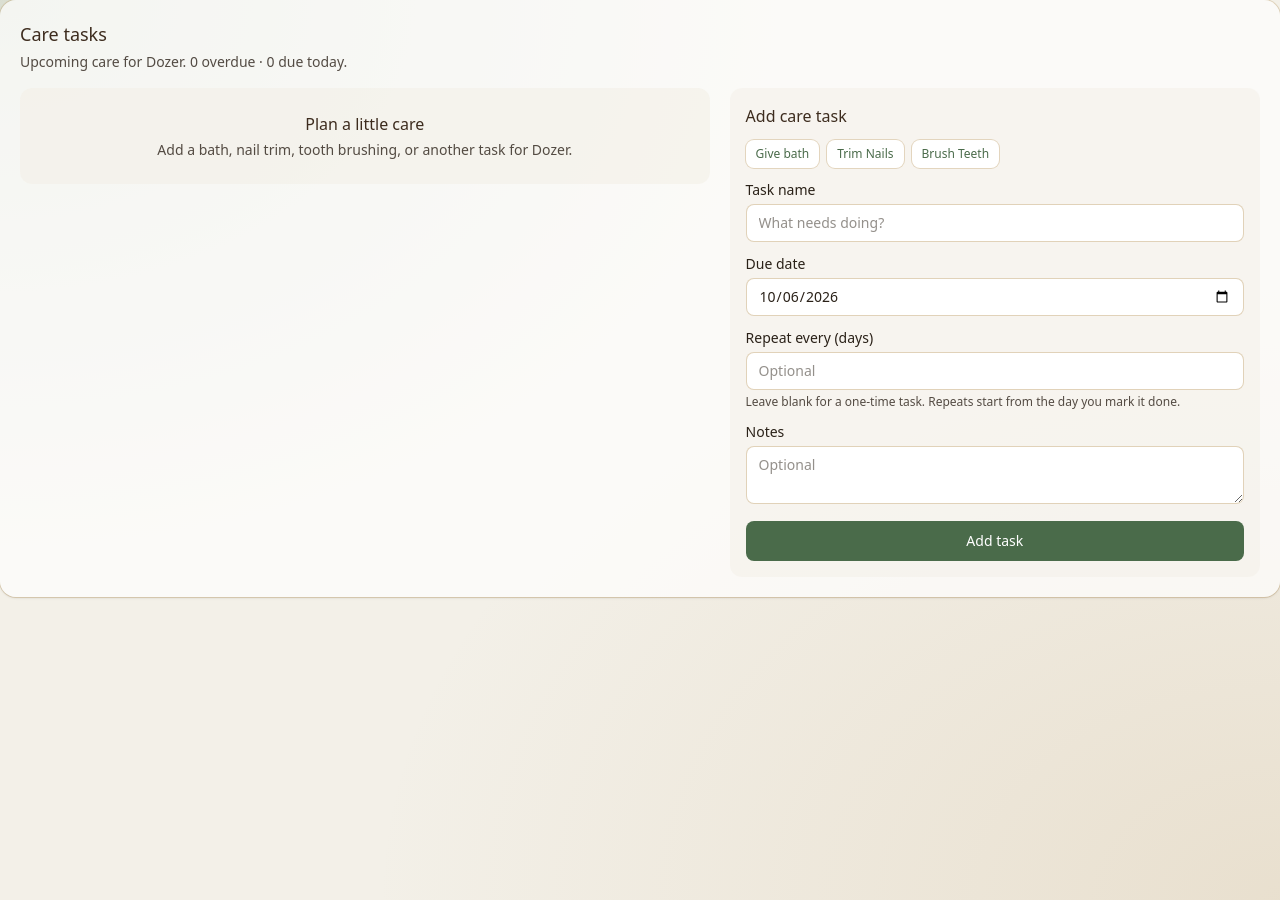
Scenario: CareTasksPanel › creates a custom task with notes and repeat days, then resets the form
In the field labelled "Task name": (995,223) 746,204 -> 1244,242, type "  Clean ears  "
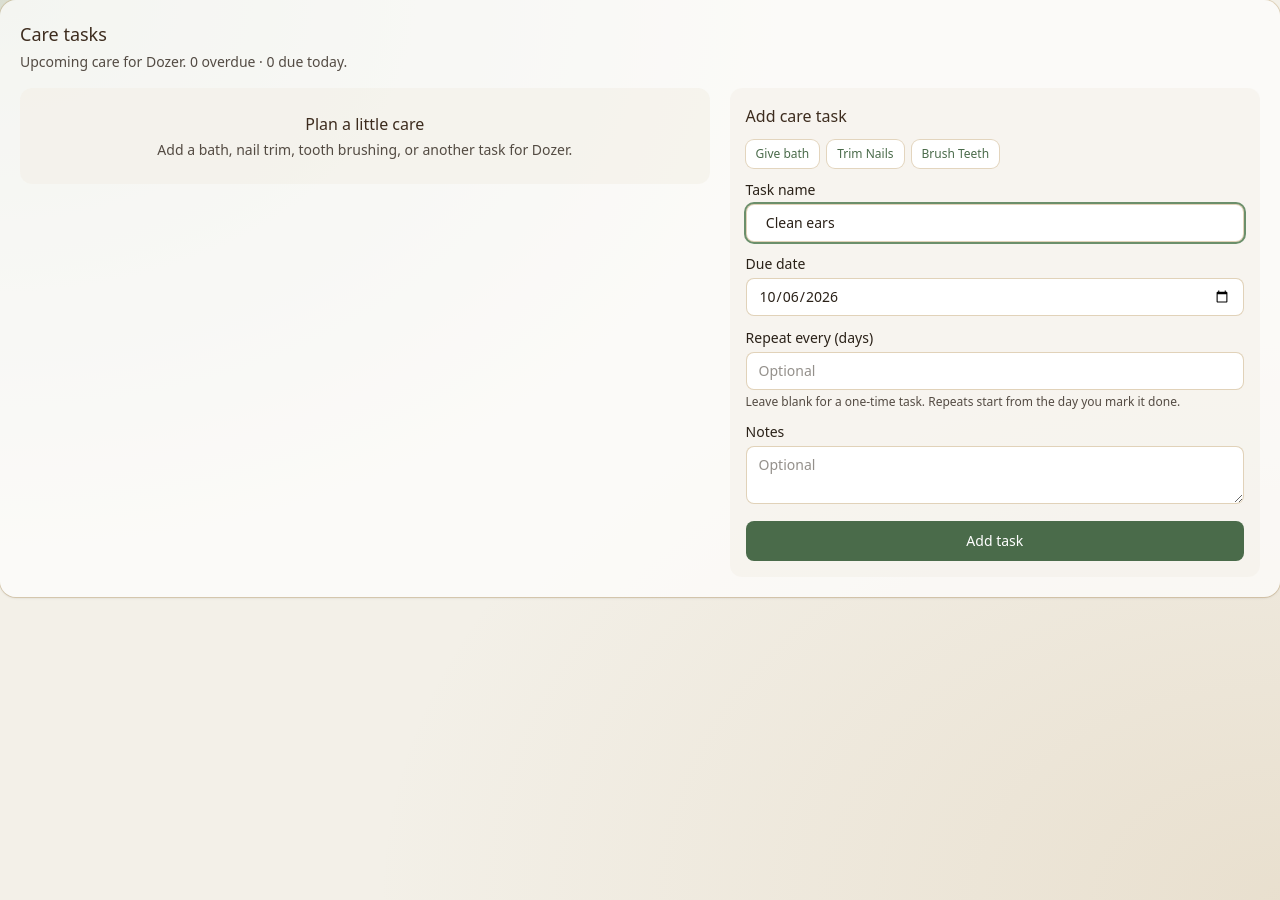
In the date field labelled "Due date": (995,297) 746,278 -> 1244,316, type "2026-10-01"
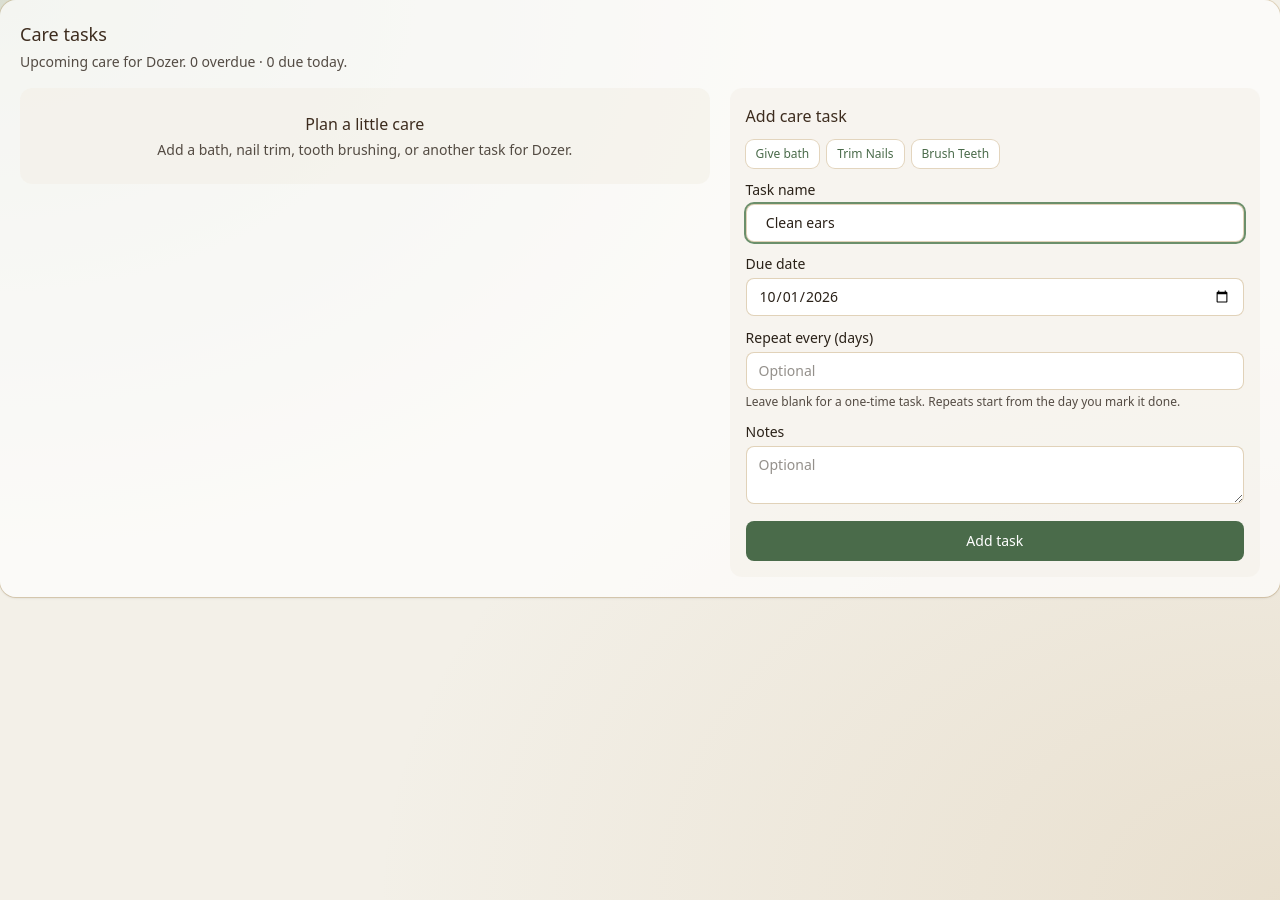
In the number field labelled "Repeat every (days)": (995,371) 746,352 -> 1244,390, type "7"
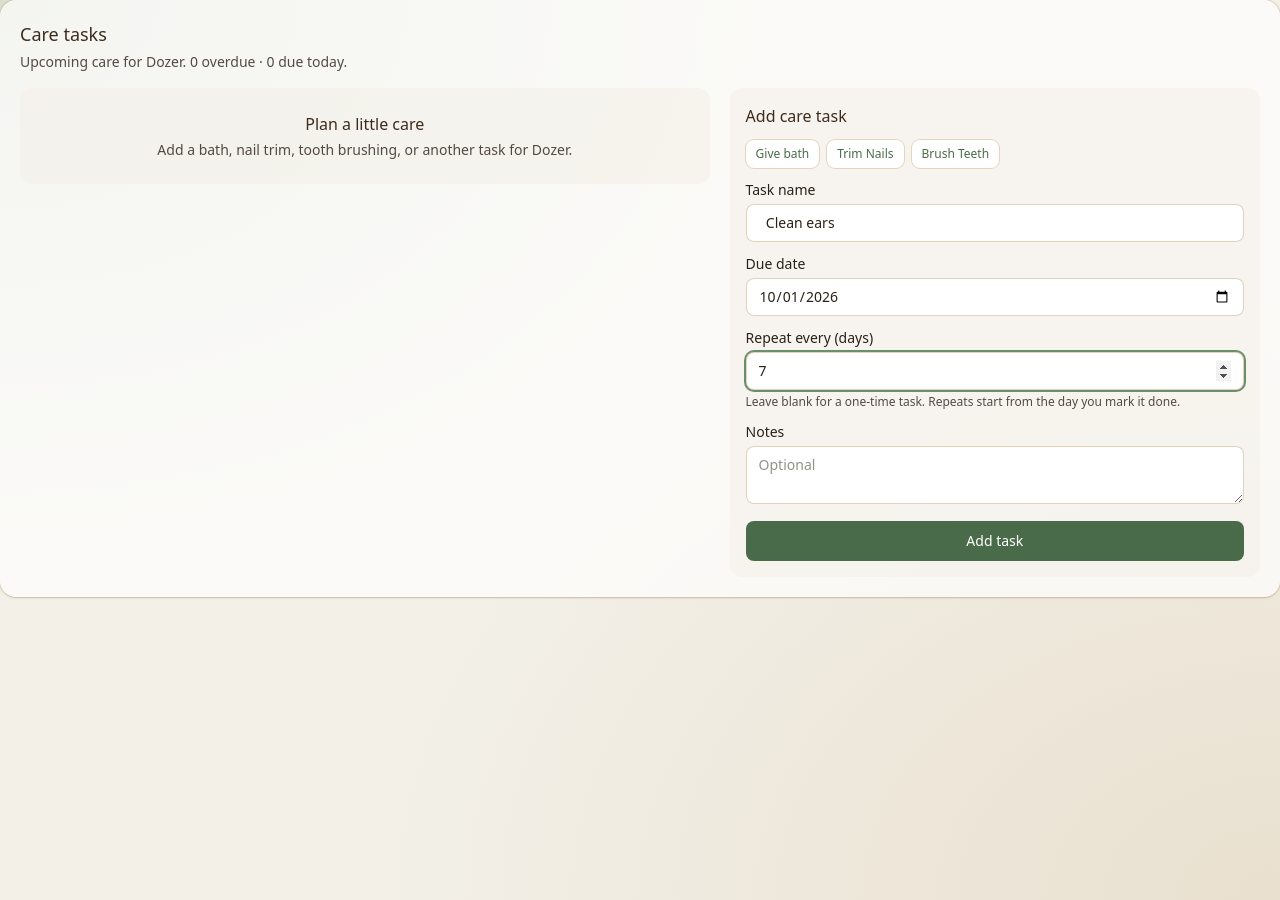
In the text box labelled "Notes": (995,475) 746,446 -> 1244,504, type "  Cotton pads  "
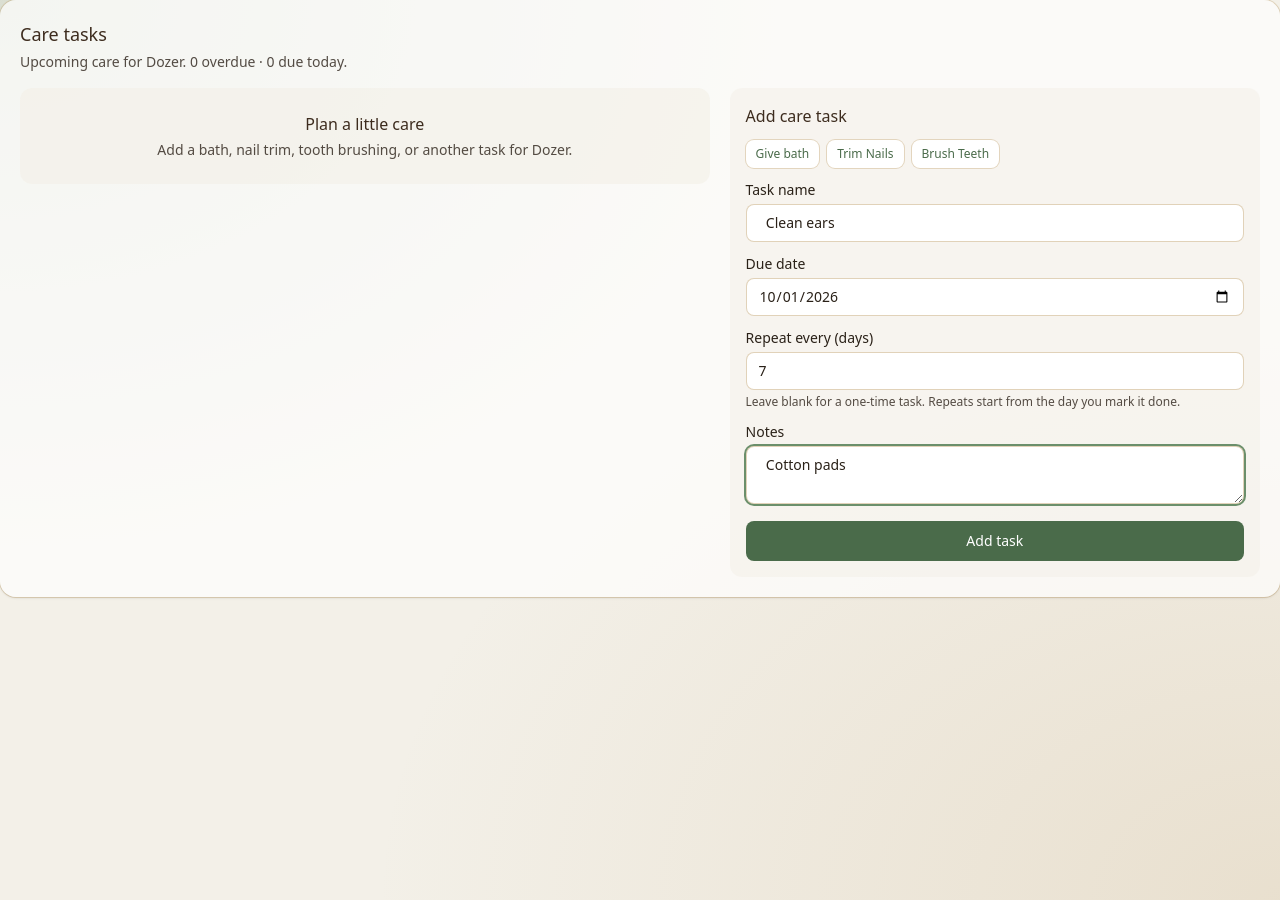
Click the button "Add task": (995,541) 746,521 -> 1244,561
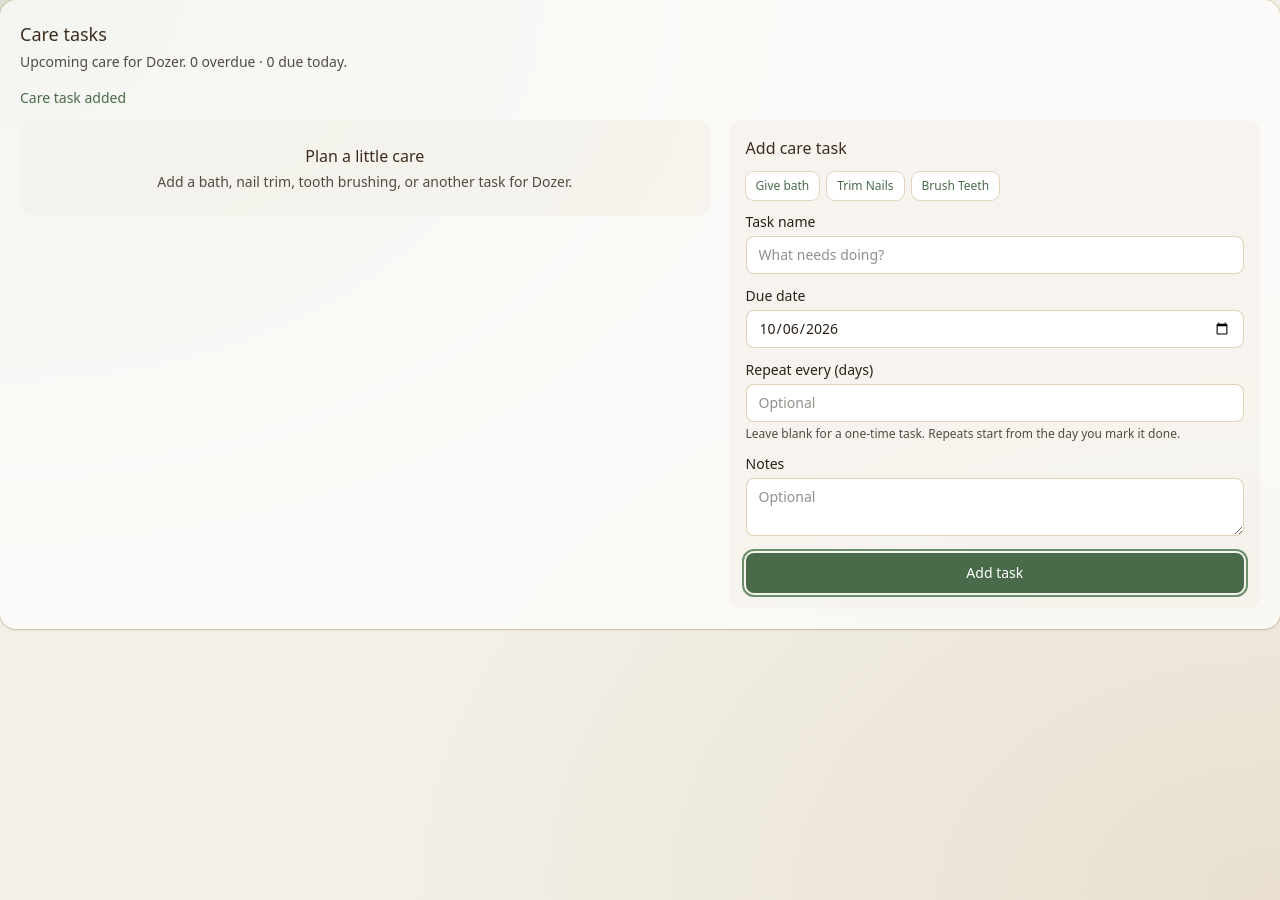
Expected: the field labelled "Task name" is empty, 746,236 -> 1244,274
Expected: the message reads "Care task added", 20,88 -> 126,107
